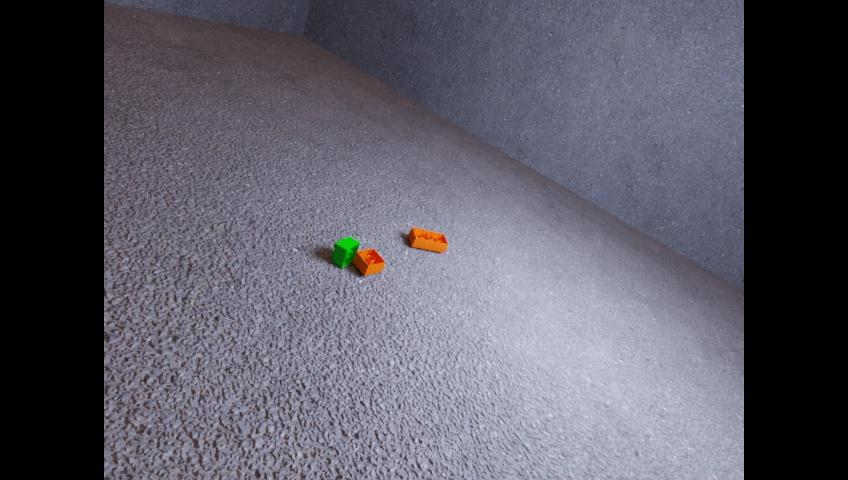2x2_green: (331, 236, 359, 267)
2x2_orange: (352, 248, 384, 275)
4x2_orange: (408, 226, 447, 252)
